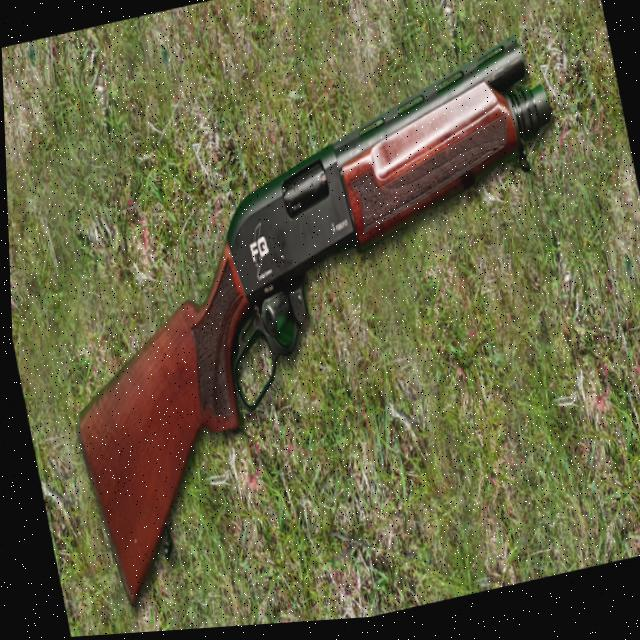firearm: (16, 42, 625, 623)
